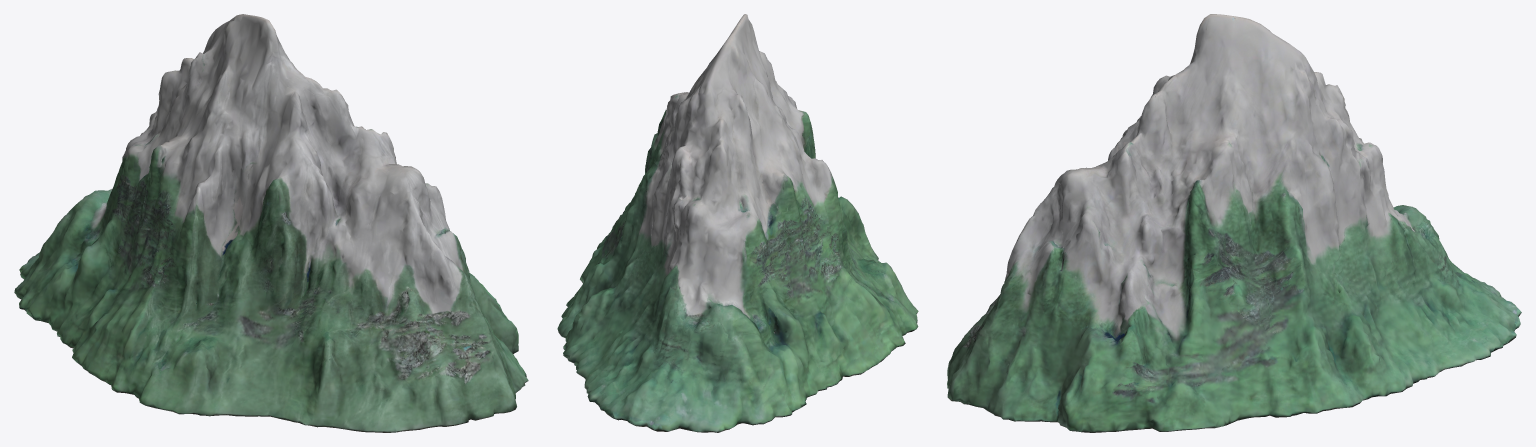
3 views of the same model, side by side, from view 1: azimuth 30°, elevation 25°; view 2: azimuth 150°, elevation 25°; view 3: azimuth 270°, elevation 25° (orthographic). The views are drawn at different scales.
Size of the model in its own units: 1.4 by 1.25 by 1.98.
1 material, 1 textured.
